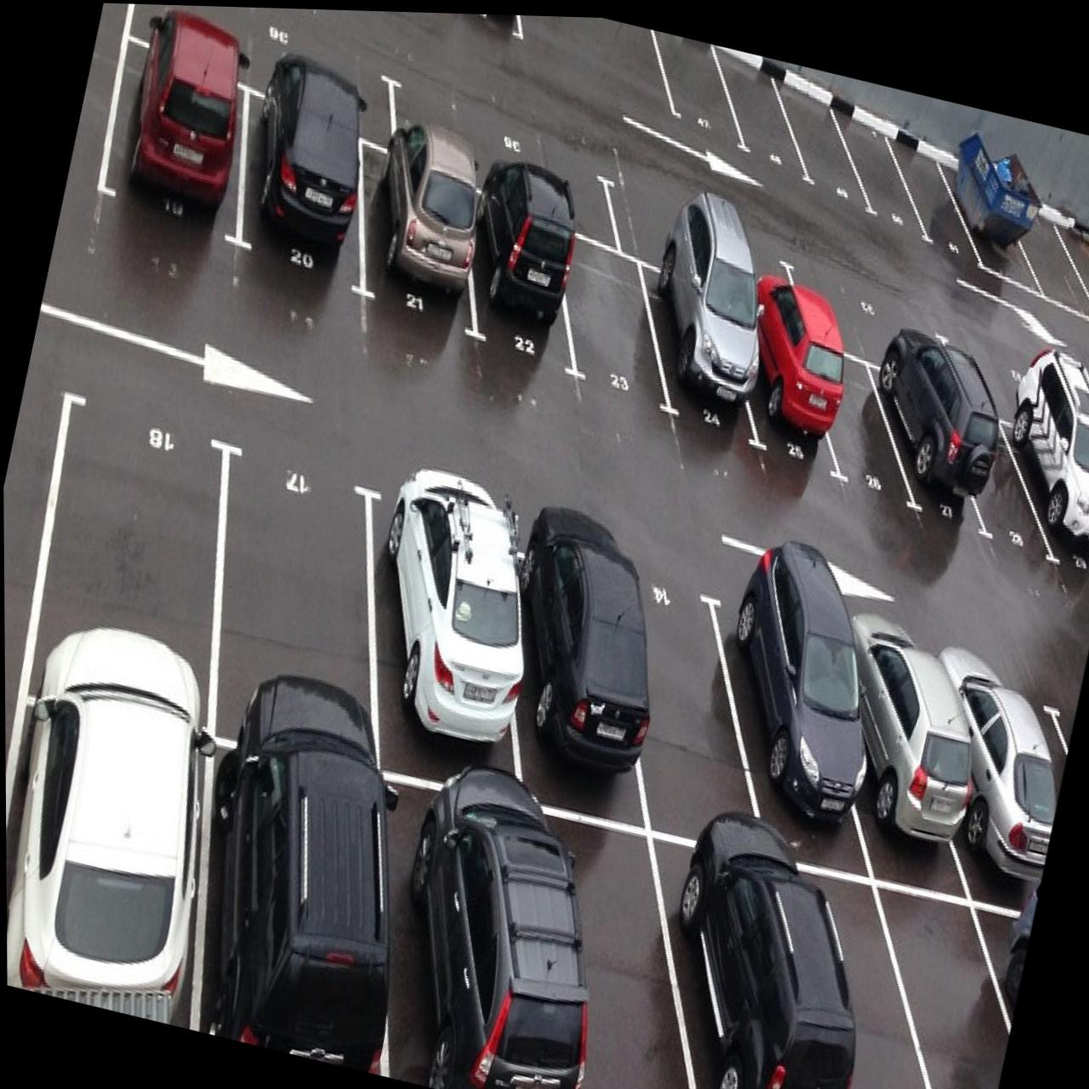cars: (5, 694, 230, 1019), (197, 750, 394, 1066), (354, 802, 547, 1089), (642, 847, 852, 1089), (360, 473, 525, 765), (700, 588, 868, 871), (824, 606, 984, 887), (218, 86, 391, 334), (919, 640, 1068, 910), (93, 38, 250, 291), (502, 528, 644, 800), (337, 148, 489, 361), (442, 182, 586, 392), (628, 253, 769, 450), (858, 359, 998, 541), (727, 297, 847, 489), (996, 407, 1089, 567)
empty: (207, 433, 388, 765), (522, 822, 736, 1089), (34, 391, 242, 662), (831, 853, 1038, 1089), (596, 572, 761, 845), (762, 873, 965, 1089), (377, 69, 629, 242), (117, 3, 394, 120), (544, 237, 678, 424), (794, 330, 916, 523), (929, 376, 1060, 546), (874, 113, 1002, 274), (615, 187, 796, 299), (761, 69, 885, 223), (821, 96, 940, 250), (698, 46, 816, 192), (941, 326, 1089, 430), (792, 280, 955, 355), (645, 37, 742, 149)
